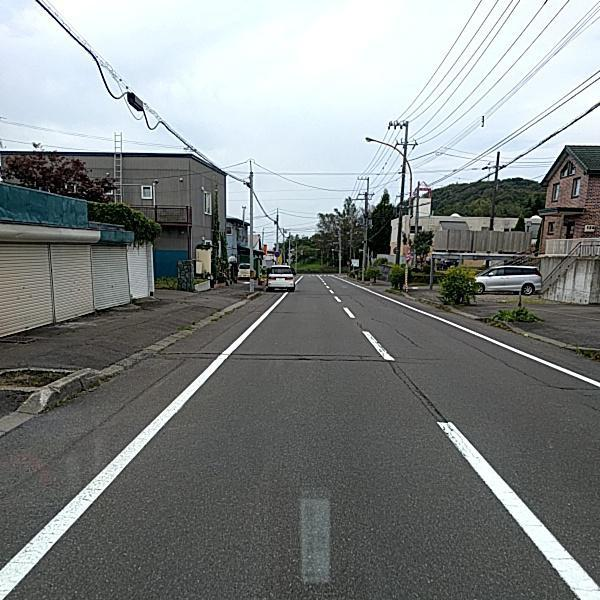D00: (371, 315, 418, 346)
D44: (0, 384, 195, 599)
